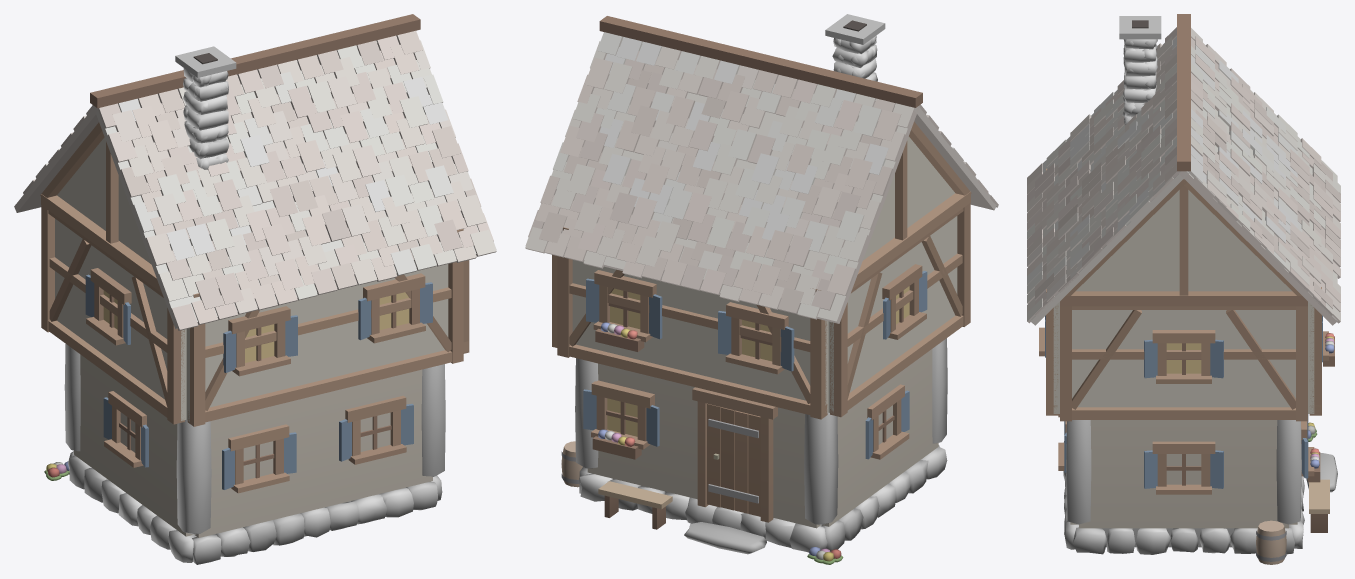
Rendered from hw_medieval_house.glb.
3 renders of one model, left to right at view 1: azimuth 30°, elevation 25°; view 2: azimuth 150°, elevation 25°; view 3: azimuth 270°, elevation 25°, orthographic. The views are drawn at different scales.
Parts seen in each view (by area): view 1: Building; view 2: Building; view 3: Building.
Boxes of the visible parts, box(x1,y1,x2,y2) form: Building: box(14, 14, 496, 564); Building: box(525, 14, 998, 564); Building: box(1027, 14, 1340, 564).
Size of the model in its own units: 4 by 5.58 by 3.59.
